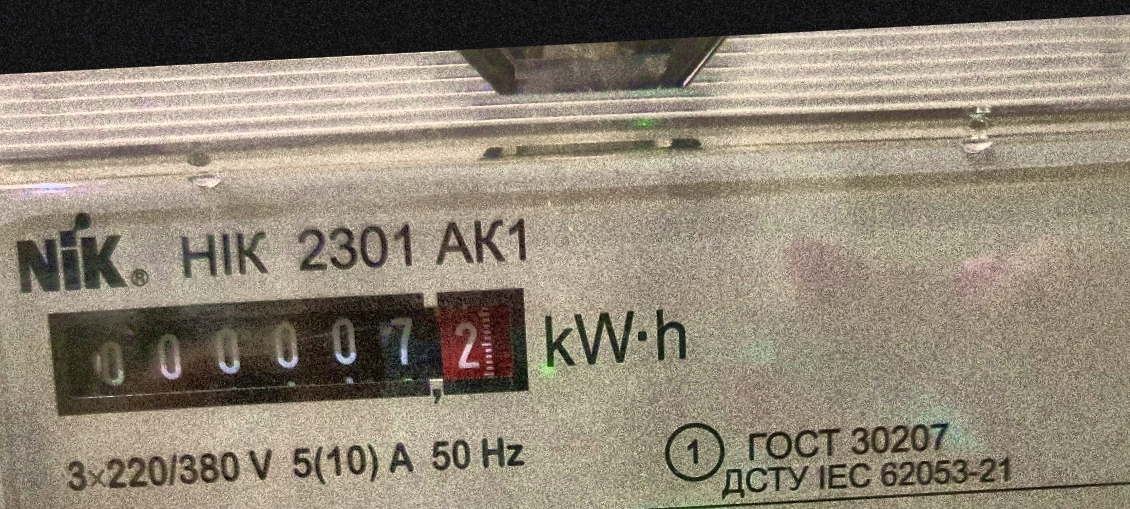0: (150, 328, 188, 382), (326, 314, 361, 368), (94, 336, 129, 388), (269, 316, 302, 371), (211, 322, 244, 376)
2: (450, 319, 483, 371)
7: (385, 312, 417, 368)
screen: (29, 267, 550, 436)
